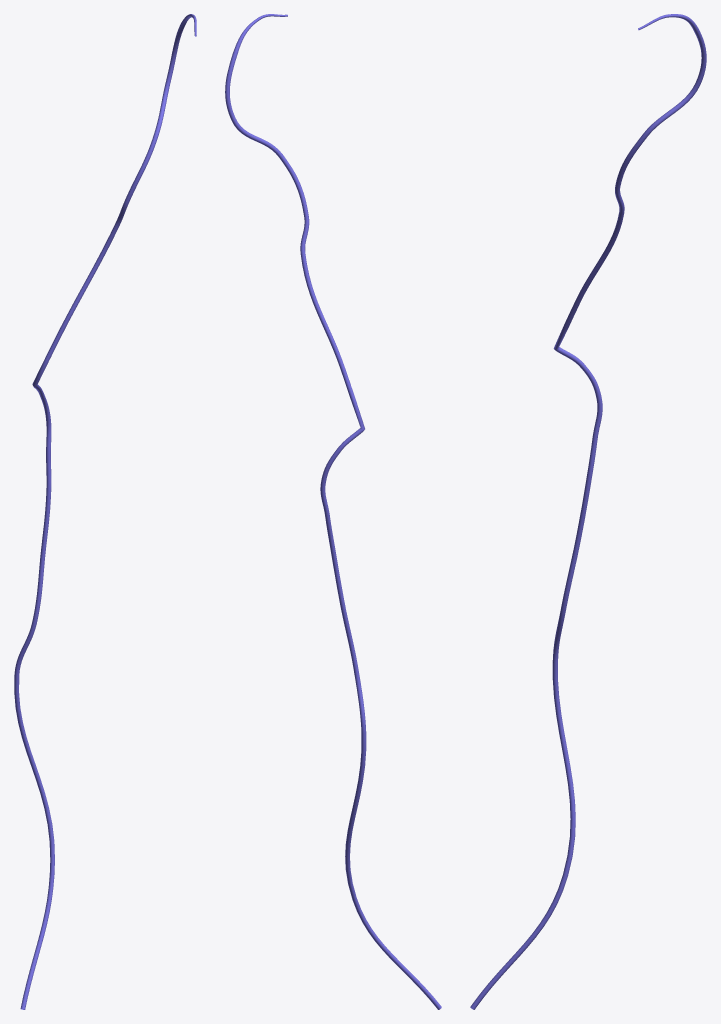
File: External_jugular_vein.l_BezierCurve.431.glb
3 views of the same model, side by side, from view 1: azimuth 30°, elevation 25°; view 2: azimuth 150°, elevation 25°; view 3: azimuth 330°, elevation 25° (orthographic). The views are drawn at different scales.
Parts seen in each view (by area): view 1: External_jugular_vein.l_BezierCurve.431; view 2: External_jugular_vein.l_BezierCurve.431; view 3: External_jugular_vein.l_BezierCurve.431.
Boxes of the visible parts, left/top/right/bottom form: External_jugular_vein.l_BezierCurve.431: left=14, top=14, right=196, bottom=1009; External_jugular_vein.l_BezierCurve.431: left=225, top=14, right=441, bottom=1009; External_jugular_vein.l_BezierCurve.431: left=470, top=14, right=706, bottom=1009.
Bounding box in the file's own units: 0.0445 × 0.2168 × 0.0237.
